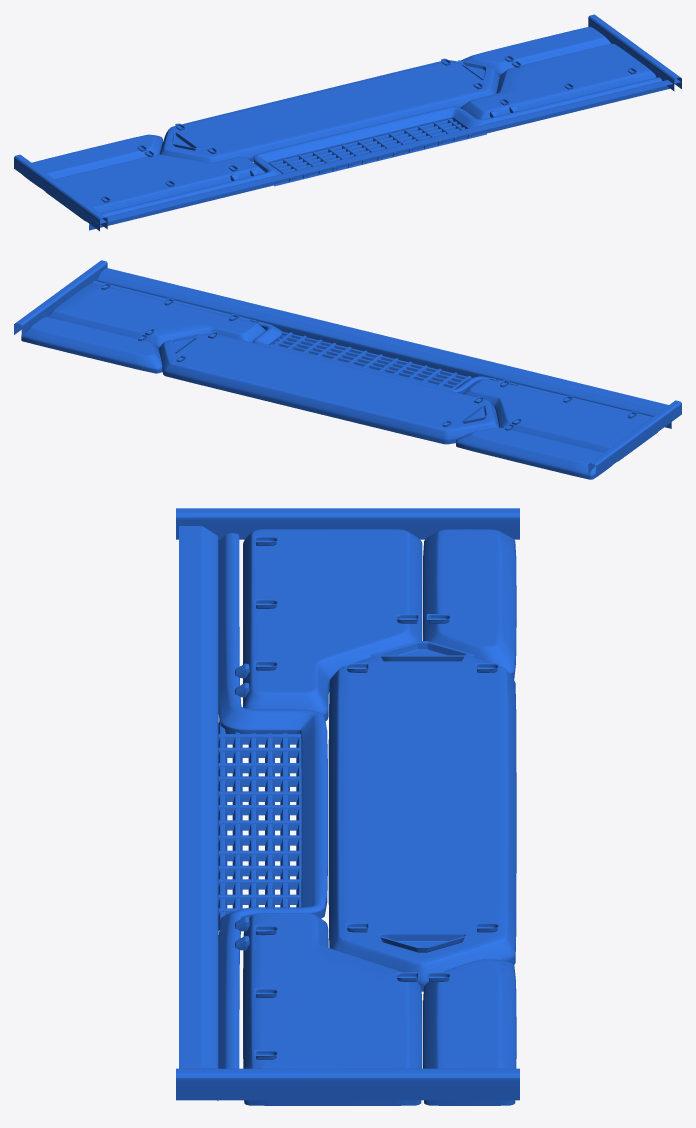
File: floor.fbx
3 views of the same model, one above another, from view 1: azimuth 30°, elevation 25°; view 2: azimuth 150°, elevation 25°; view 3: azimuth 270°, elevation 25° (orthographic). The views are drawn at different scales.
Parts seen in each view (by area): view 1: Trim_06; view 2: Trim_06; view 3: Trim_06.
Part boxes in pixels (bbox=[...]): Trim_06: bbox=[14, 14, 681, 231]; Trim_06: bbox=[14, 260, 681, 479]; Trim_06: bbox=[176, 508, 519, 1105].
Size of the model in its own units: 6304 by 208 by 1612.
